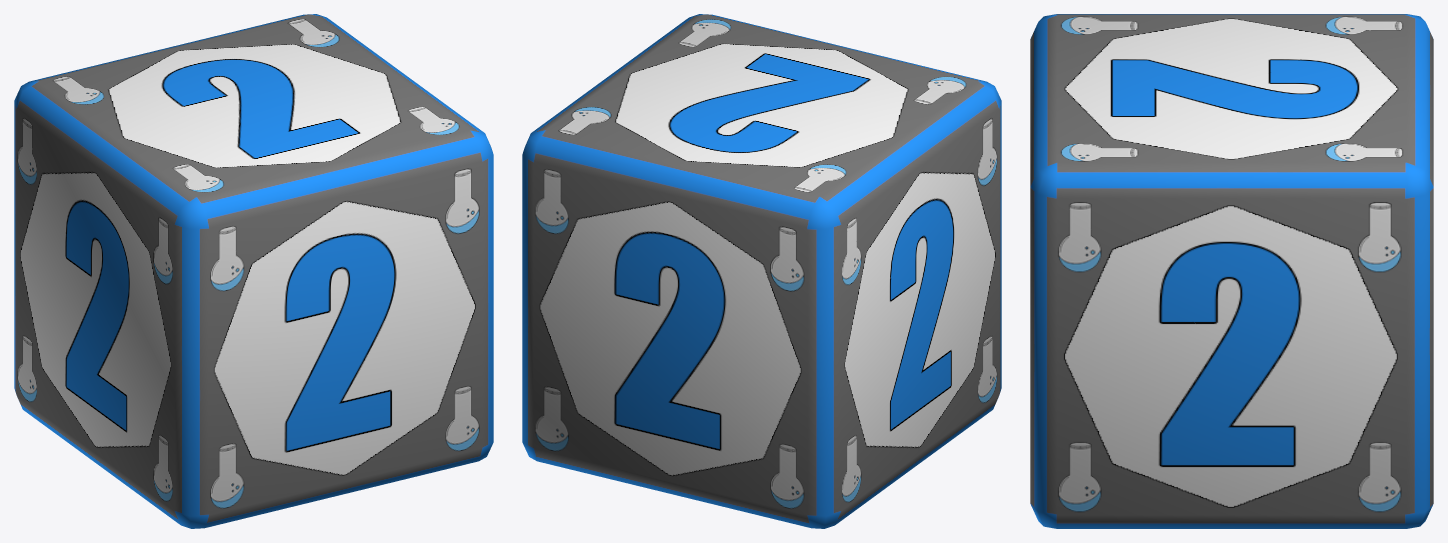
The model's file is Dice.FBX.
3 views of the same model, side by side, from view 1: azimuth 30°, elevation 25°; view 2: azimuth 150°, elevation 25°; view 3: azimuth 270°, elevation 25° (orthographic). The views are drawn at different scales.
Visible parts, largest first — view 1: ChamferBox001; view 2: ChamferBox001; view 3: ChamferBox001.
Part boxes in pixels (x1,y1,x2,y2): ChamferBox001: (14,14,493,528); ChamferBox001: (522,14,1001,528); ChamferBox001: (1030,14,1433,528).
Size of the model in its own units: 39.37 by 39.37 by 39.37.
